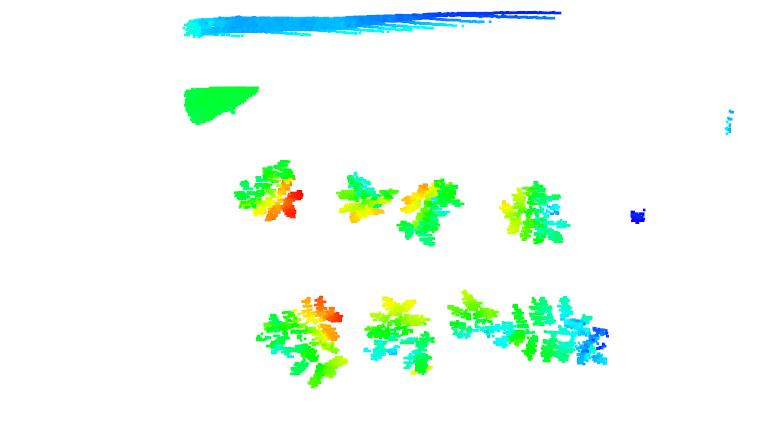chickpea: (253, 296, 349, 389), (509, 297, 613, 369), (361, 293, 436, 376), (498, 179, 573, 249), (233, 158, 309, 226), (396, 176, 465, 248), (444, 289, 519, 351), (336, 170, 399, 225)
